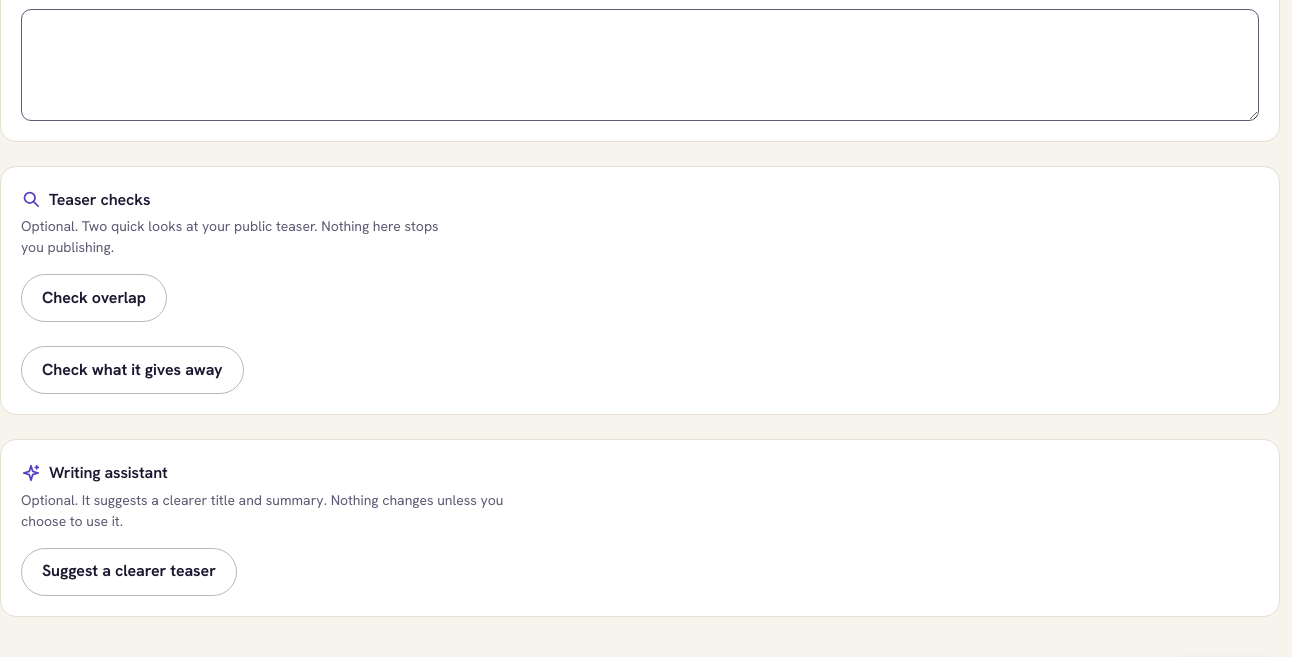
refusals › 404 not_found on the disclosure check has its own fixed sentence, politely, with the button kept
(page scrolled)
Click the button "Check what it gives away". click: (132, 370)
box: left=21, top=346, right=244, bottom=394
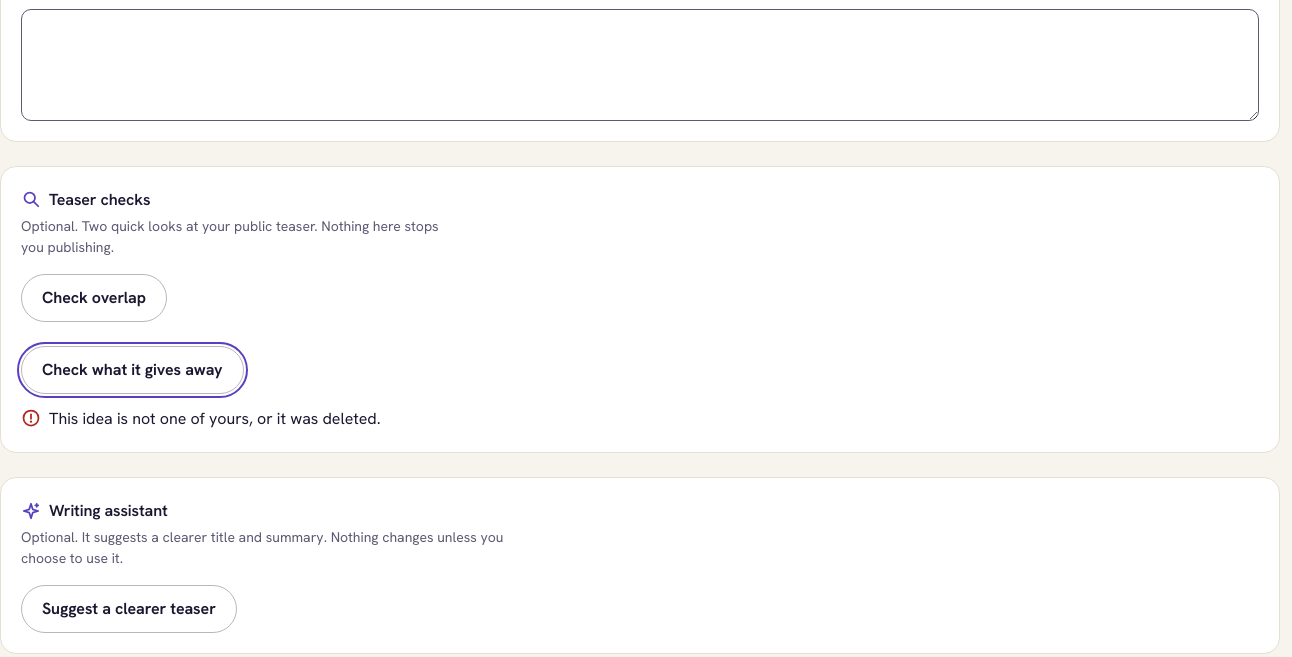
Expected: the message "This idea is not one of yours, or it was deleted." is shown, left=21, top=406, right=380, bottom=432
